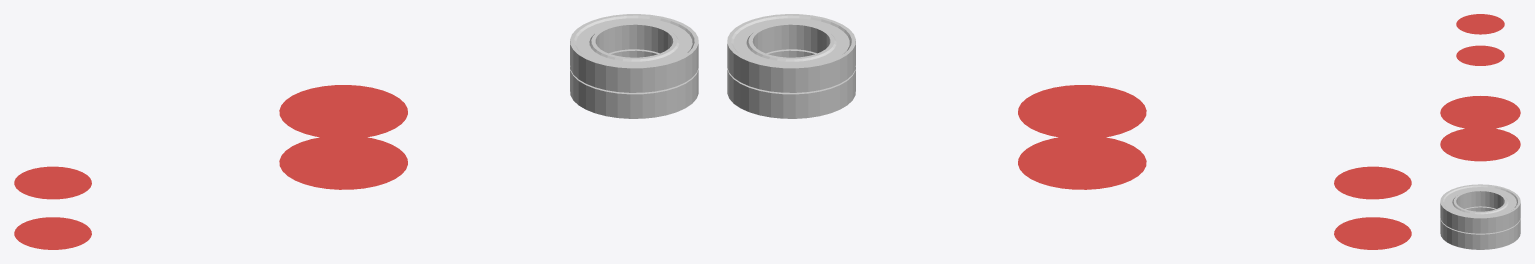
Rendered from Doubke Mast Bearing.fbx.
3 views of the same model, side by side, from view 1: azimuth 30°, elevation 25°; view 2: azimuth 150°, elevation 25°; view 3: azimuth 270°, elevation 25° (orthographic). The views are drawn at different scales.
Visible parts, largest first — view 1: 12.007, 12.007.A, 12.007.B; view 2: 12.007, 12.007.A, 12.007.B; view 3: 12.007, 12.007.A, 12.007.B.
Boxes of the visible parts, x1=… form: 12.007: x1=570, y1=14, x2=698, y2=118; 12.007.A: x1=279, y1=85, x2=407, y2=189; 12.007.B: x1=14, y1=166, x2=91, y2=249; 12.007: x1=727, y1=14, x2=855, y2=118; 12.007.A: x1=1018, y1=85, x2=1146, y2=189; 12.007.B: x1=1334, y1=166, x2=1411, y2=249; 12.007: x1=1440, y1=184, x2=1520, y2=249; 12.007.A: x1=1440, y1=96, x2=1520, y2=161; 12.007.B: x1=1456, y1=14, x2=1504, y2=65.
Bounding box in the file's own units: 231 × 16.62 × 38.43.
